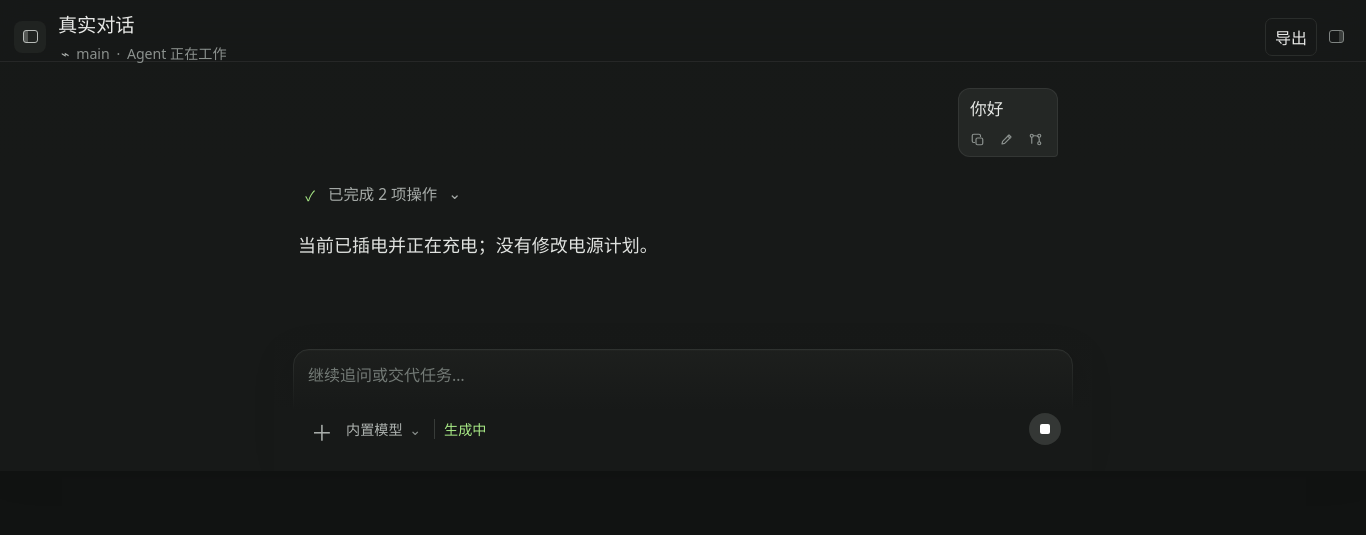
conversation timeline projection › renders bounded power evidence for a charging battery
What coordinates should you click on to do the following:
click the button "✓ 已完成 2 项操作 ⌄"
I would click on:
 (384, 194)
Its box is [299,177,468,210].
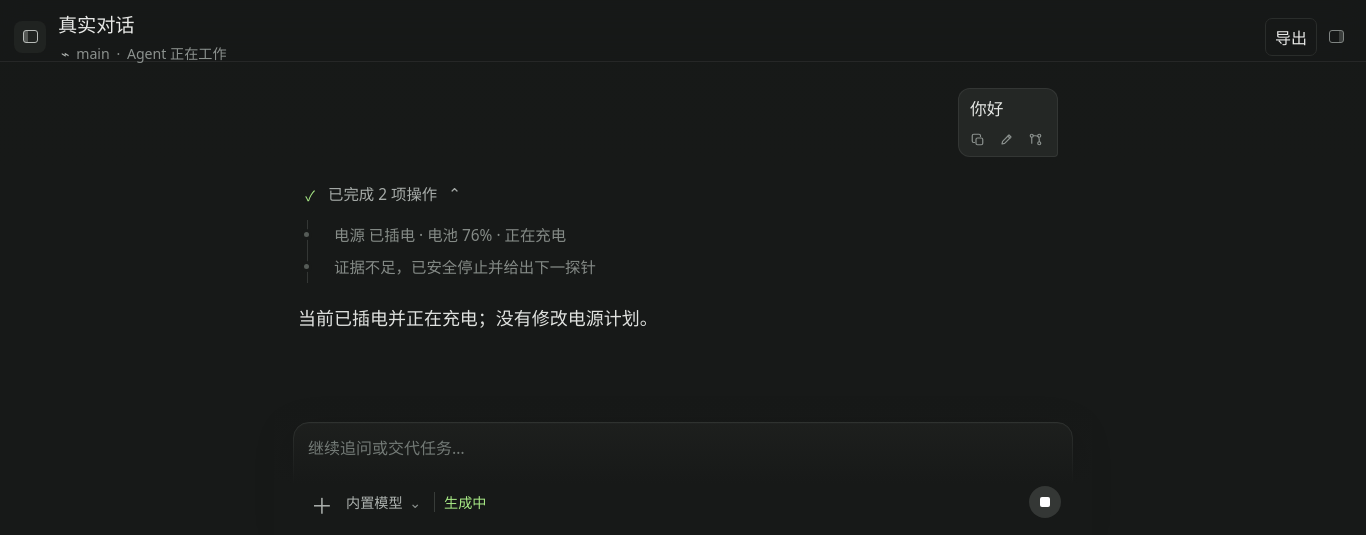
Expected: the text "电源 已插电 · 电池 76% · 正在充电" is shown, [334,225,566,246]
